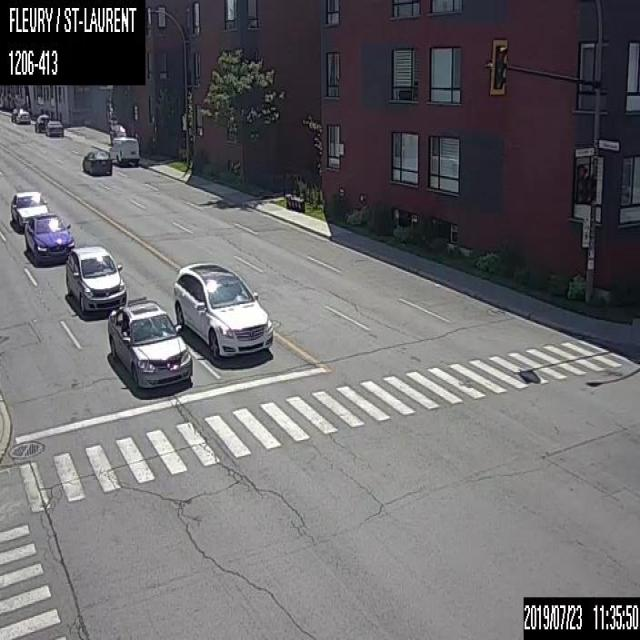vehicle: (172, 261, 272, 359), (106, 296, 192, 388), (66, 245, 126, 316), (24, 212, 74, 266), (10, 192, 48, 230), (108, 136, 138, 166), (82, 150, 111, 173), (34, 113, 49, 132), (45, 120, 63, 135), (15, 108, 30, 124)
